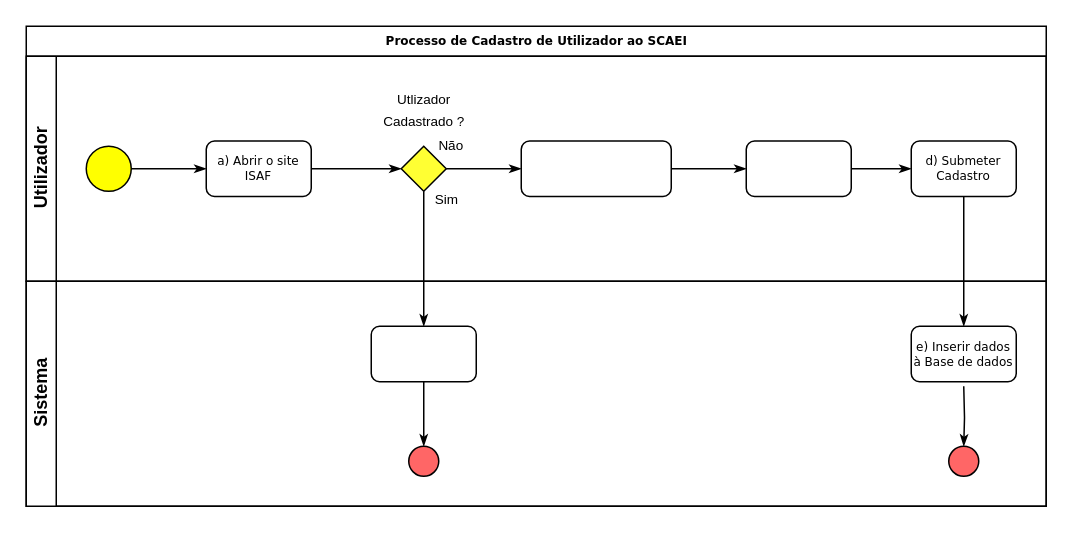
Some shapes in this 1073 by 533 pixel diagram are drawn without their labels. The centre of each missing label's shape, as x and y in pixels:
"b) Aceder a página de cadastro SCAEI" belongs at point (595, 168).
"c) Preencher Formulário" belongs at point (798, 168).
"Envia para a tela de Login" belongs at point (423, 353).
